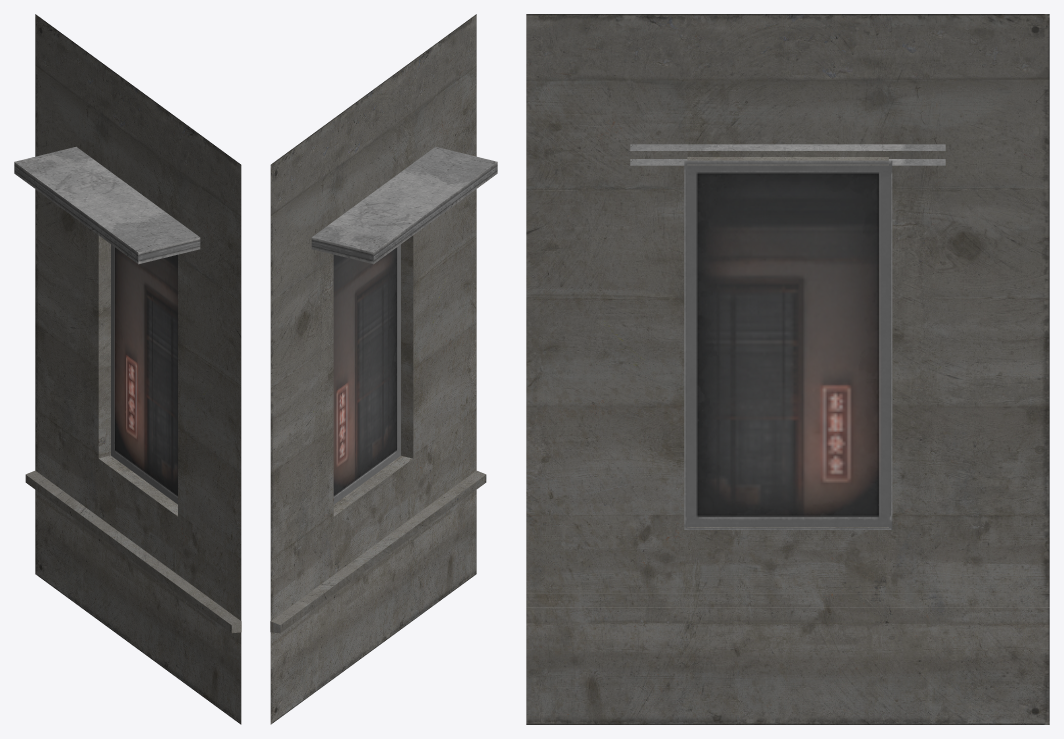
File: CP_Windows_A_2x3m_01.fbx
3 views of the same model, side by side, from view 1: azimuth 30°, elevation 25°; view 2: azimuth 150°, elevation 25°; view 3: azimuth 270°, elevation 25° (orthographic). The views are drawn at different scales.
Visible parts, largest first — view 1: CP_Windows_A_2x3m_01; view 2: CP_Windows_A_2x3m_01; view 3: CP_Windows_A_2x3m_01.
Boxes of the visible parts, <box> form: CP_Windows_A_2x3m_01: <box>14,14,241,724</box>; CP_Windows_A_2x3m_01: <box>270,14,497,724</box>; CP_Windows_A_2x3m_01: <box>526,14,1049,724</box>.
Size of the model in its own units: 42.34 by 300 by 200.
